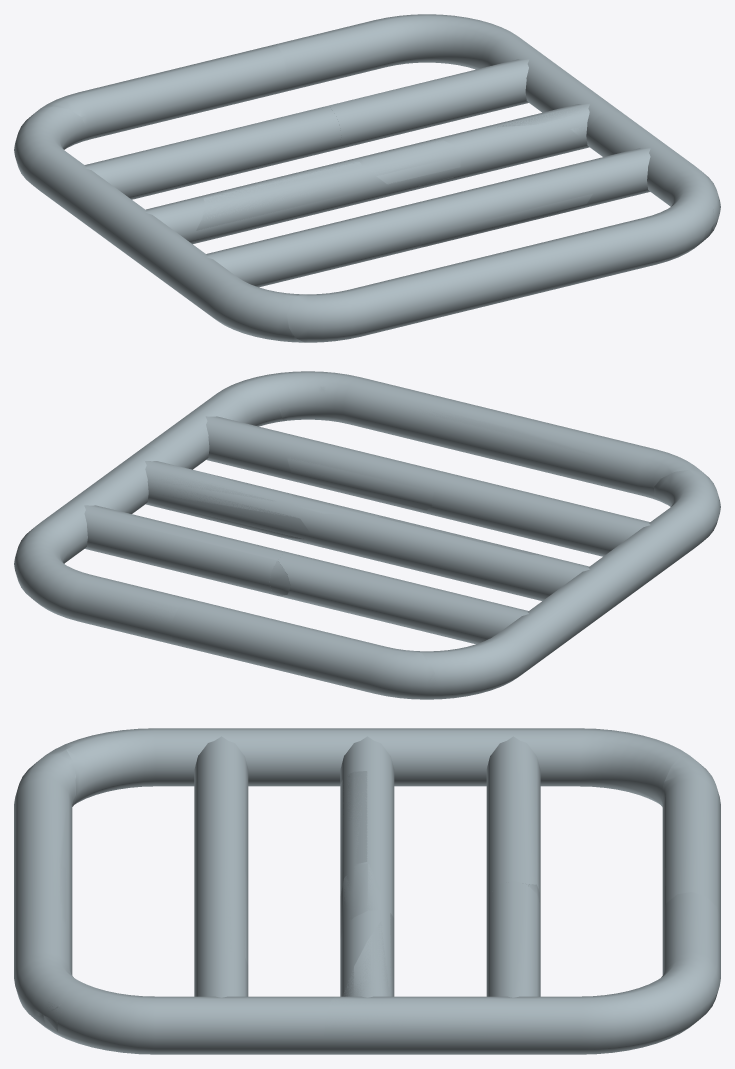
File: grate cell fractire2.fbx
The picture shows the model from 3 angles, top to bottom: view 1: azimuth 30°, elevation 25°; view 2: azimuth 150°, elevation 25°; view 3: azimuth 270°, elevation 25°; orthographic projection. The views are drawn at different scales.
Visible parts, largest first — view 1: barrierFloor_Cube.506_cell, barrierFloor_Cube.506_cell.003, barrierFloor_Cube.506_cell.012, barrierFloor_Cube.506_cell.008, barrierFloor_Cube.506_cell.002, barrierFloor_Cube.506_cell.016, barrierFloor_Cube.506_cell.001, barrierFloor_Cube.506_cell.010, barrierFloor_Cube.506_cell.007, barrierFloor_Cube.506_cell.014, barrierFloor_Cube.506_cell.015, barrierFloor_Cube.506_cell.009 (+2 smaller); view 2: barrierFloor_Cube.506_cell, barrierFloor_Cube.506_cell.012, barrierFloor_Cube.506_cell.003, barrierFloor_Cube.506_cell.008, barrierFloor_Cube.506_cell.002, barrierFloor_Cube.506_cell.001, barrierFloor_Cube.506_cell.016, barrierFloor_Cube.506_cell.005, barrierFloor_Cube.506_cell.017, barrierFloor_Cube.506_cell.006, barrierFloor_Cube.506_cell.014, barrierFloor_Cube.506_cell.009 (+1 smaller); view 3: barrierFloor_Cube.506_cell, barrierFloor_Cube.506_cell.008, barrierFloor_Cube.506_cell.003, barrierFloor_Cube.506_cell.012, barrierFloor_Cube.506_cell.001, barrierFloor_Cube.506_cell.002, barrierFloor_Cube.506_cell.016, barrierFloor_Cube.506_cell.017, barrierFloor_Cube.506_cell.010, barrierFloor_Cube.506_cell.015, barrierFloor_Cube.506_cell.009, barrierFloor_Cube.506_cell.014 (+3 smaller).
Boxes of the visible parts, x1,y1,x2,y2 form: barrierFloor_Cube.506_cell: (14,17,720,342); barrierFloor_Cube.506_cell.003: (205,148,650,287); barrierFloor_Cube.506_cell.012: (145,104,589,244); barrierFloor_Cube.506_cell.008: (274,14,622,146); barrierFloor_Cube.506_cell.002: (84,106,341,199); barrierFloor_Cube.506_cell.016: (325,59,529,149); barrierFloor_Cube.506_cell.001: (35,44,286,134); barrierFloor_Cube.506_cell.010: (189,161,368,242); barrierFloor_Cube.506_cell.007: (501,203,713,299); barrierFloor_Cube.506_cell.014: (417,174,592,247); barrierFloor_Cube.506_cell.015: (362,140,460,187); barrierFloor_Cube.506_cell.009: (207,218,421,286); barrierFloor_Cube.506_cell: (15,371,720,699); barrierFloor_Cube.506_cell.012: (145,461,589,600); barrierFloor_Cube.506_cell.003: (205,416,650,556); barrierFloor_Cube.506_cell.008: (14,446,193,640); barrierFloor_Cube.506_cell.002: (277,552,528,644); barrierFloor_Cube.506_cell.001: (171,600,436,694); barrierFloor_Cube.506_cell.016: (84,505,288,595); barrierFloor_Cube.506_cell.005: (276,382,508,463); barrierFloor_Cube.506_cell.017: (145,461,309,538); barrierFloor_Cube.506_cell.006: (504,426,673,502); barrierFloor_Cube.506_cell.014: (287,447,433,513); barrierFloor_Cube.506_cell.009: (432,492,616,556); barrierFloor_Cube.506_cell: (14,728,719,1054); barrierFloor_Cube.506_cell.008: (324,892,720,1049); barrierFloor_Cube.506_cell.003: (194,736,248,997); barrierFloor_Cube.506_cell.012: (340,736,394,997); barrierFloor_Cube.506_cell.001: (661,754,720,919); barrierFloor_Cube.506_cell.002: (486,736,540,903); barrierFloor_Cube.506_cell.016: (486,881,540,997); barrierFloor_Cube.506_cell.017: (343,913,394,997); barrierFloor_Cube.506_cell.010: (340,771,367,884); barrierFloor_Cube.506_cell.015: (340,863,381,938); barrierFloor_Cube.506_cell.009: (197,746,247,880); barrierFloor_Cube.506_cell.014: (226,859,248,964).
Size of the model in its own units: 2606 by 219 by 2659.
